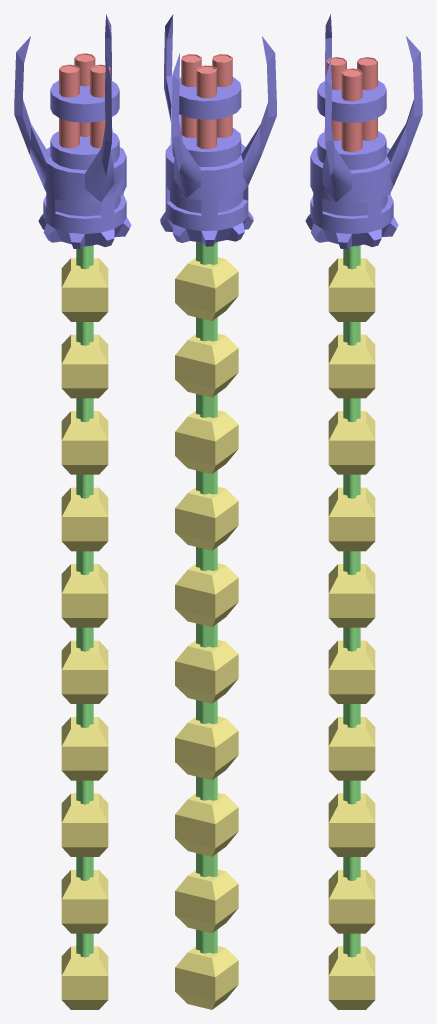
File: Stage02ArmB_v2.1_NoAnim.FBX
3 renders of one model, left to right at view 1: azimuth 90°, elevation 25°; view 2: azimuth 150°, elevation 25°; view 3: azimuth 270°, elevation 25°, orthographic.
Visible parts, largest first — view 1: Cable, Arm, Muzzle; view 2: Cable, Arm, Muzzle; view 3: Cable, Arm, Muzzle.
Part boxes in pixels (bbox=[...]): Cable: bbox=[61, 245, 108, 1009]; Arm: bbox=[14, 14, 131, 249]; Muzzle: bbox=[59, 53, 110, 148]; Cable: bbox=[175, 242, 238, 1009]; Arm: bbox=[160, 14, 276, 246]; Muzzle: bbox=[181, 54, 232, 149]; Cable: bbox=[328, 245, 375, 1009]; Arm: bbox=[305, 14, 422, 249]; Muzzle: bbox=[326, 57, 377, 152].
Size of the model in its own units: 47.03 by 386 by 42.26.
